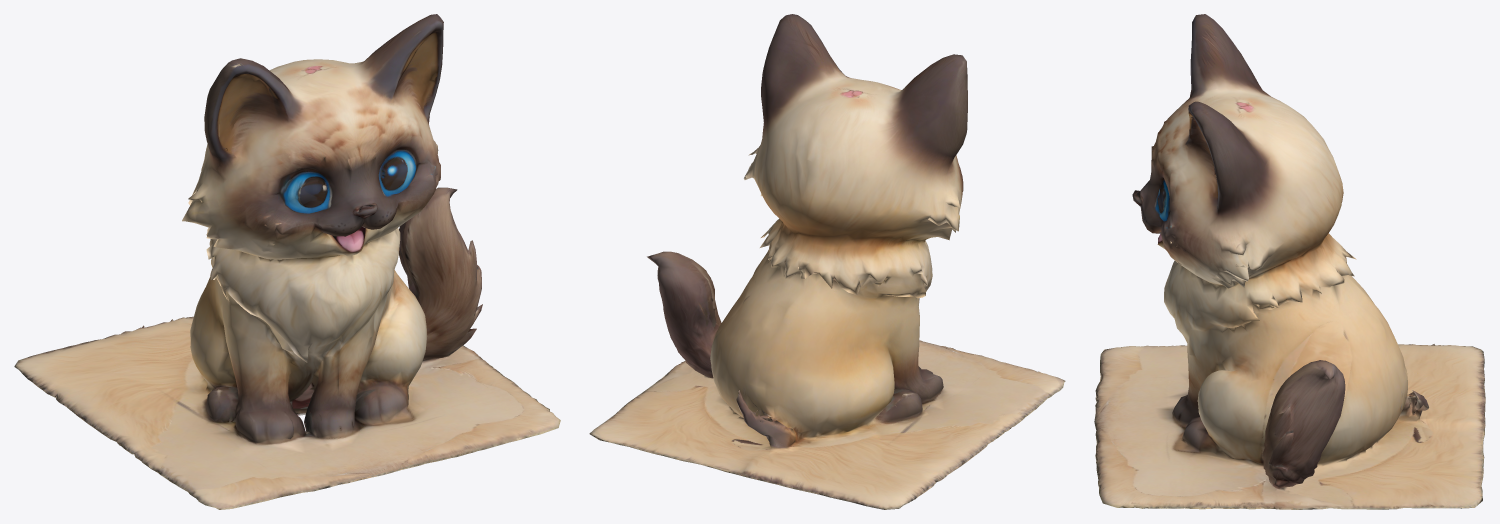
File: mochi.glb
3 views of the same model, side by side, from view 1: azimuth 30°, elevation 25°; view 2: azimuth 150°, elevation 25°; view 3: azimuth 270°, elevation 25° (orthographic). The views are drawn at different scales.
Bounding box in the file's own units: 1.97 × 2 × 1.93.
Materials: 1 (1 with a texture image).
